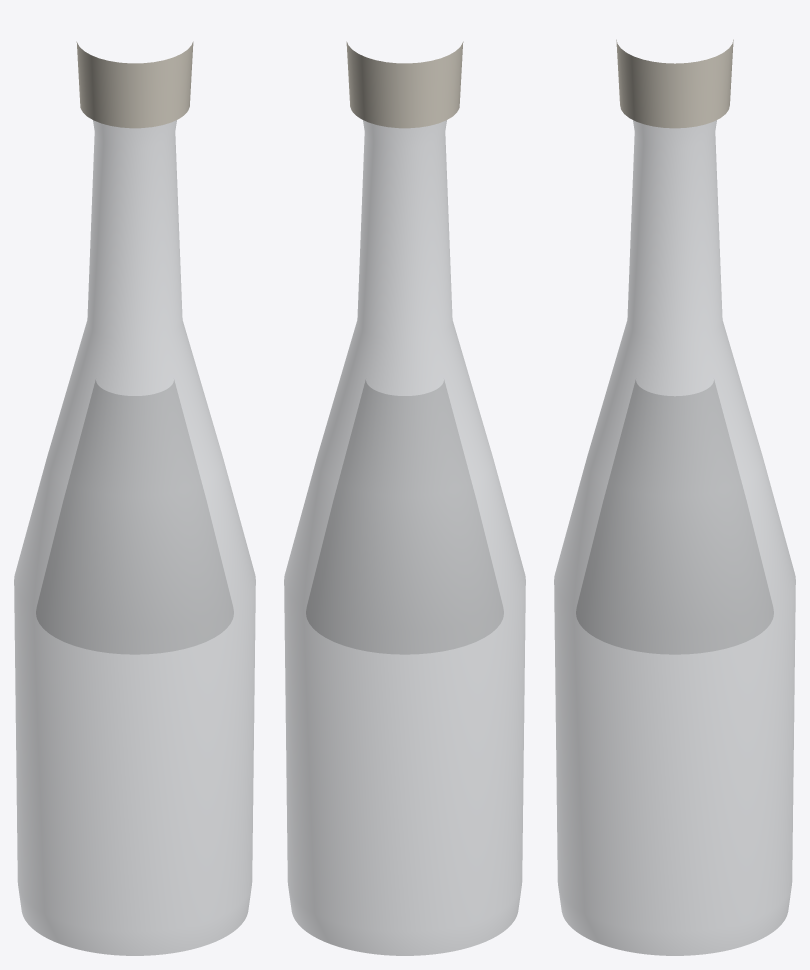
File: dom-perignon-2013.glb
The picture shows the model from 3 angles, left to right: view 1: azimuth 30°, elevation 25°; view 2: azimuth 150°, elevation 25°; view 3: azimuth 270°, elevation 25°; orthographic projection.
Visible parts, largest first — view 1: body, liquid, cap; view 2: body, liquid, cap; view 3: body, liquid, cap.
Boxes of the visible parts, x1,y1,x2,y2 form: body: (14, 120, 255, 955); liquid: (36, 382, 233, 653); cap: (76, 41, 193, 128); body: (284, 120, 525, 955); liquid: (306, 382, 503, 653); cap: (346, 41, 463, 128); body: (554, 120, 795, 955); liquid: (576, 382, 773, 653); cap: (616, 39, 733, 128).
Bounding box in the file's own units: 0.33 × 1.31 × 0.33.
